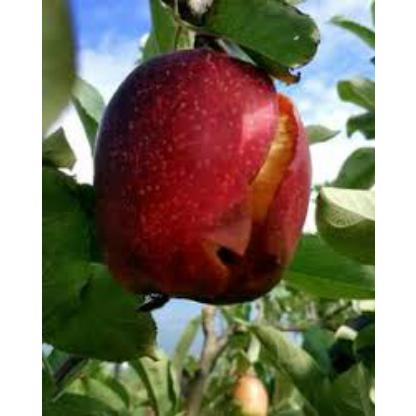apple: (93, 66, 309, 288)
